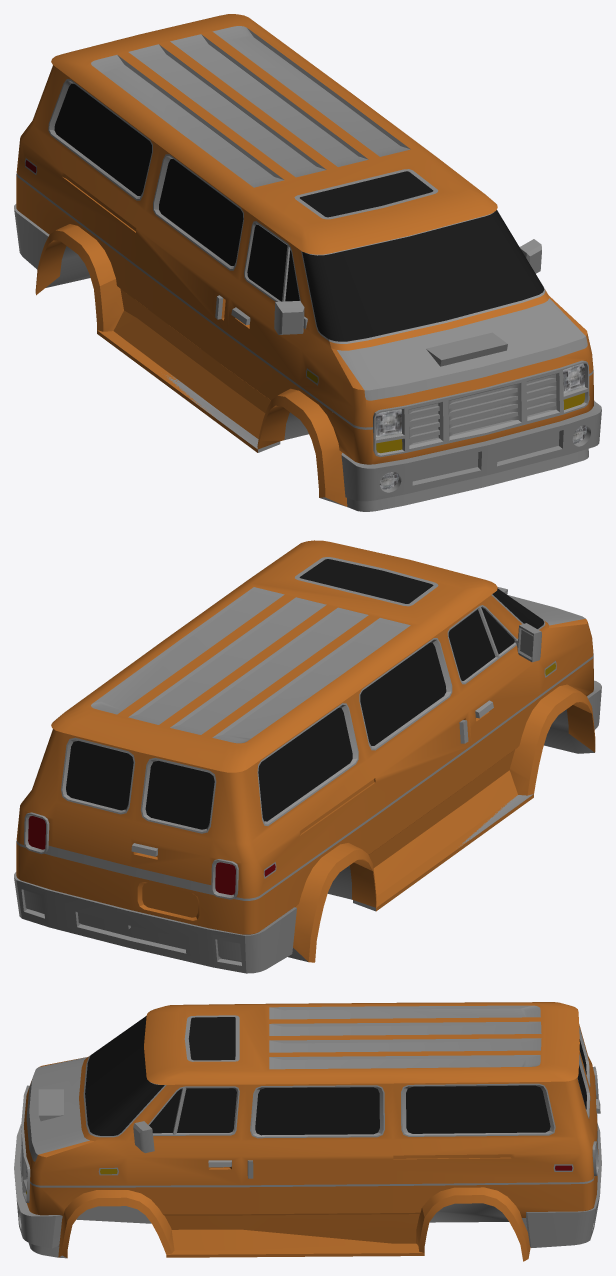
The model's file is PlayerCar4.FBX.
The picture shows the model from 3 angles, top to bottom: view 1: azimuth 30°, elevation 25°; view 2: azimuth 150°, elevation 25°; view 3: azimuth 270°, elevation 25°; orthographic projection. The views are drawn at different scales.
Parts seen in each view (by area): view 1: PaintableBody, NotPaintableBody, Windows, Headlights; view 2: PaintableBody, NotPaintableBody, Windows, Brakelights; view 3: PaintableBody, NotPaintableBody, Windows.
Boxes of the visible parts, x1,y1,x2,y2 form: PaintableBody: (16,14,594,506); NotPaintableBody: (14,26,601,511); Windows: (54,83,544,341); Headlights: (376,363,586,489); PaintableBody: (16,540,595,962); NotPaintableBody: (14,557,601,973); Windows: (66,559,544,829); Brakelights: (28,816,275,894); PaintableBody: (24,1002,598,1261); NotPaintableBody: (14,1005,601,1258); Windows: (85,1016,586,1135).
Size of the model in its own units: 43.95 by 32.64 by 98.75.
Materials: 6 (1 with a texture image).
